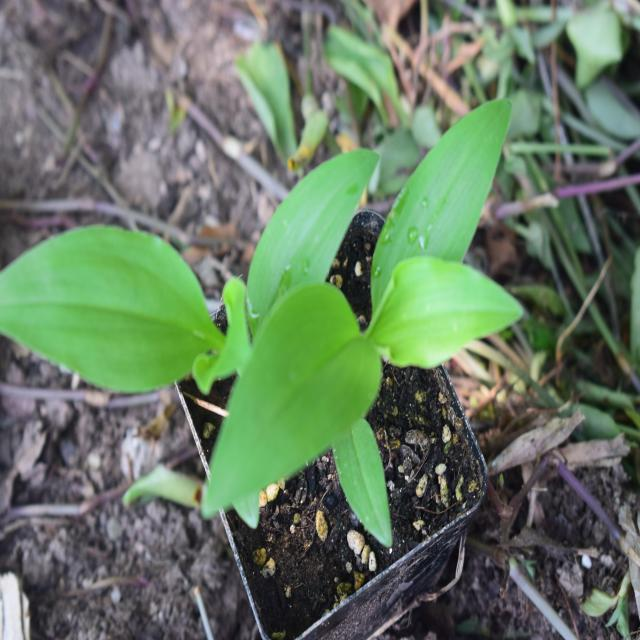Common Dayflower: (208, 102, 544, 507), (0, 194, 202, 408)
